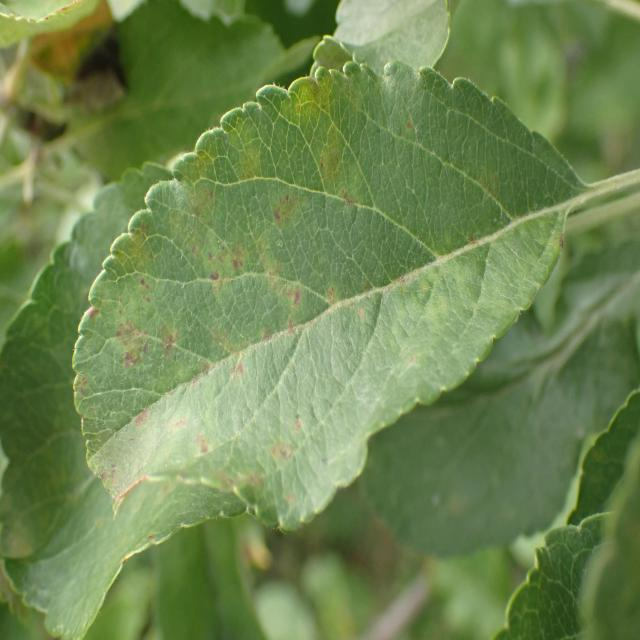scab: (58, 66, 554, 502)
